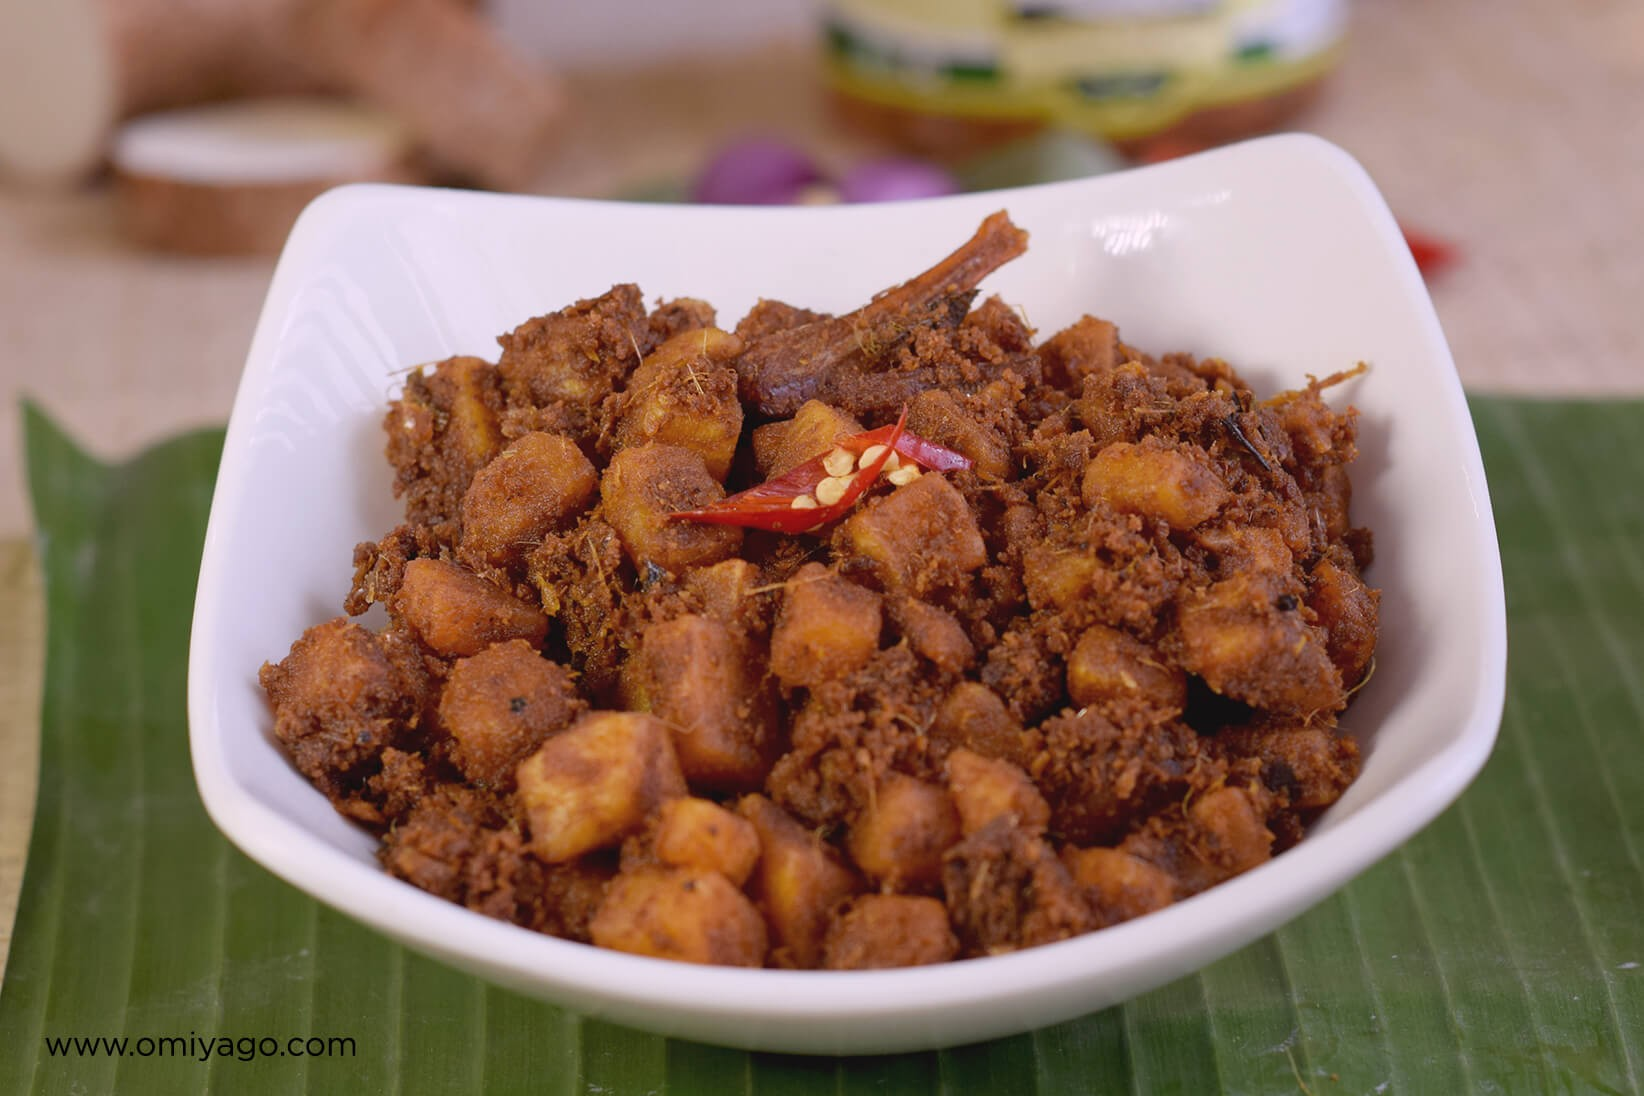rendang: (209, 183, 1549, 1016)
